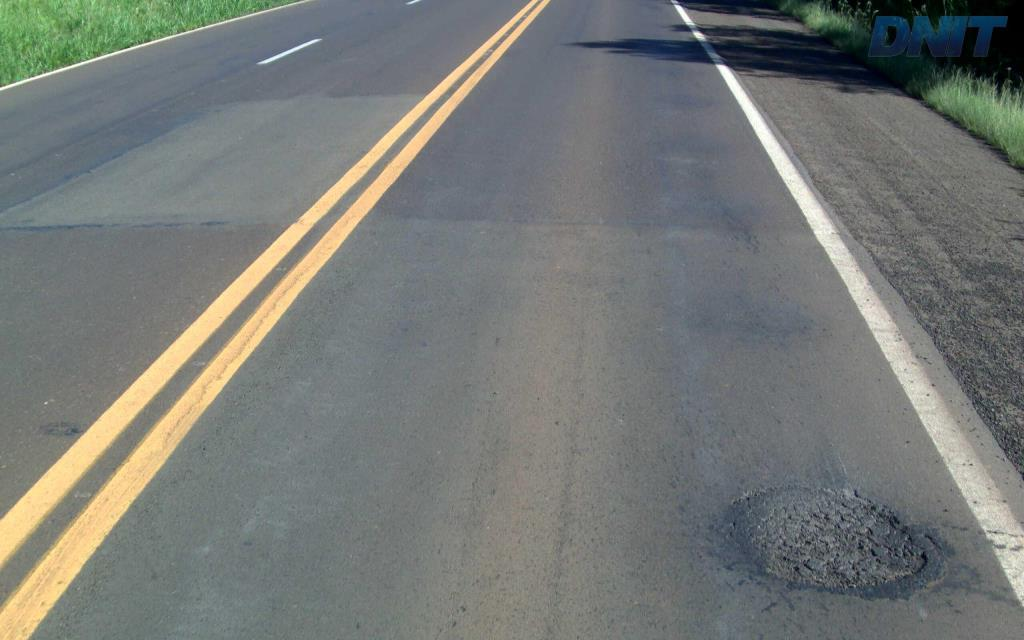crack: (875, 505, 929, 591), (826, 557, 873, 597)
pothole: (728, 479, 942, 599)
